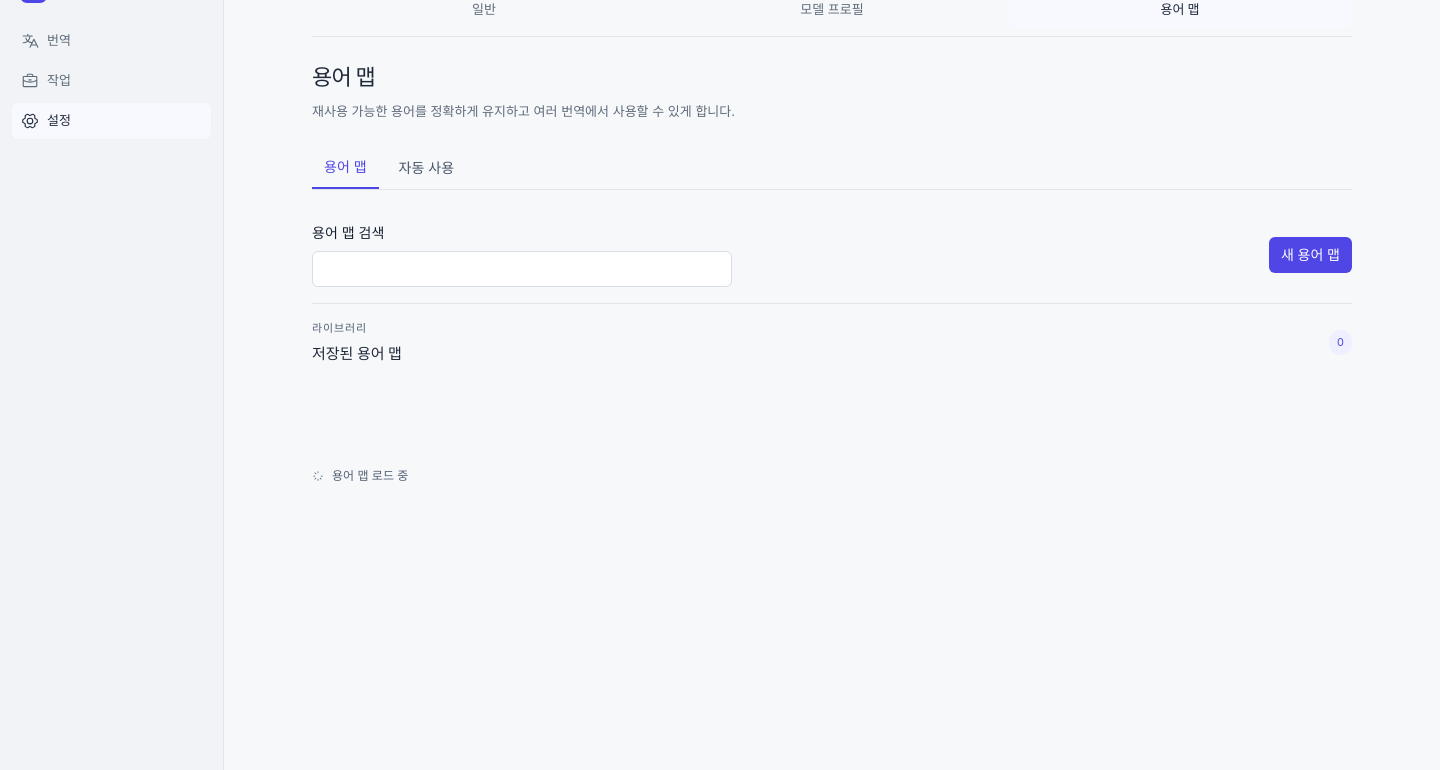
Test: product shell › localizes Term map guidance for ko
Click the button "새 용어 맵".
click(1310, 255)  # box [1269,237,1352,273]
(page scrolled)
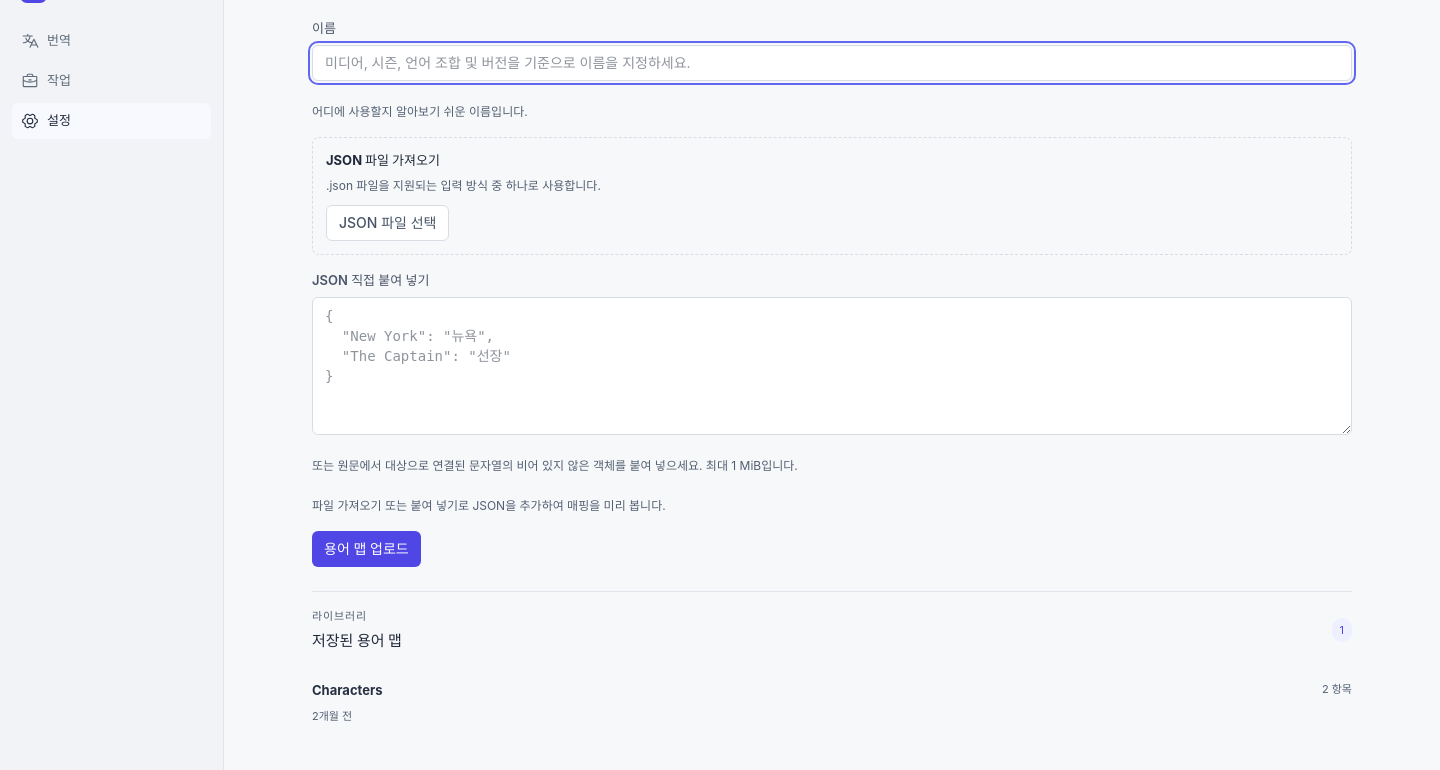
Now the text "어디에 사용할지 알아보기 쉬운 이름입니다." is shown, box [312,104,528,119]
